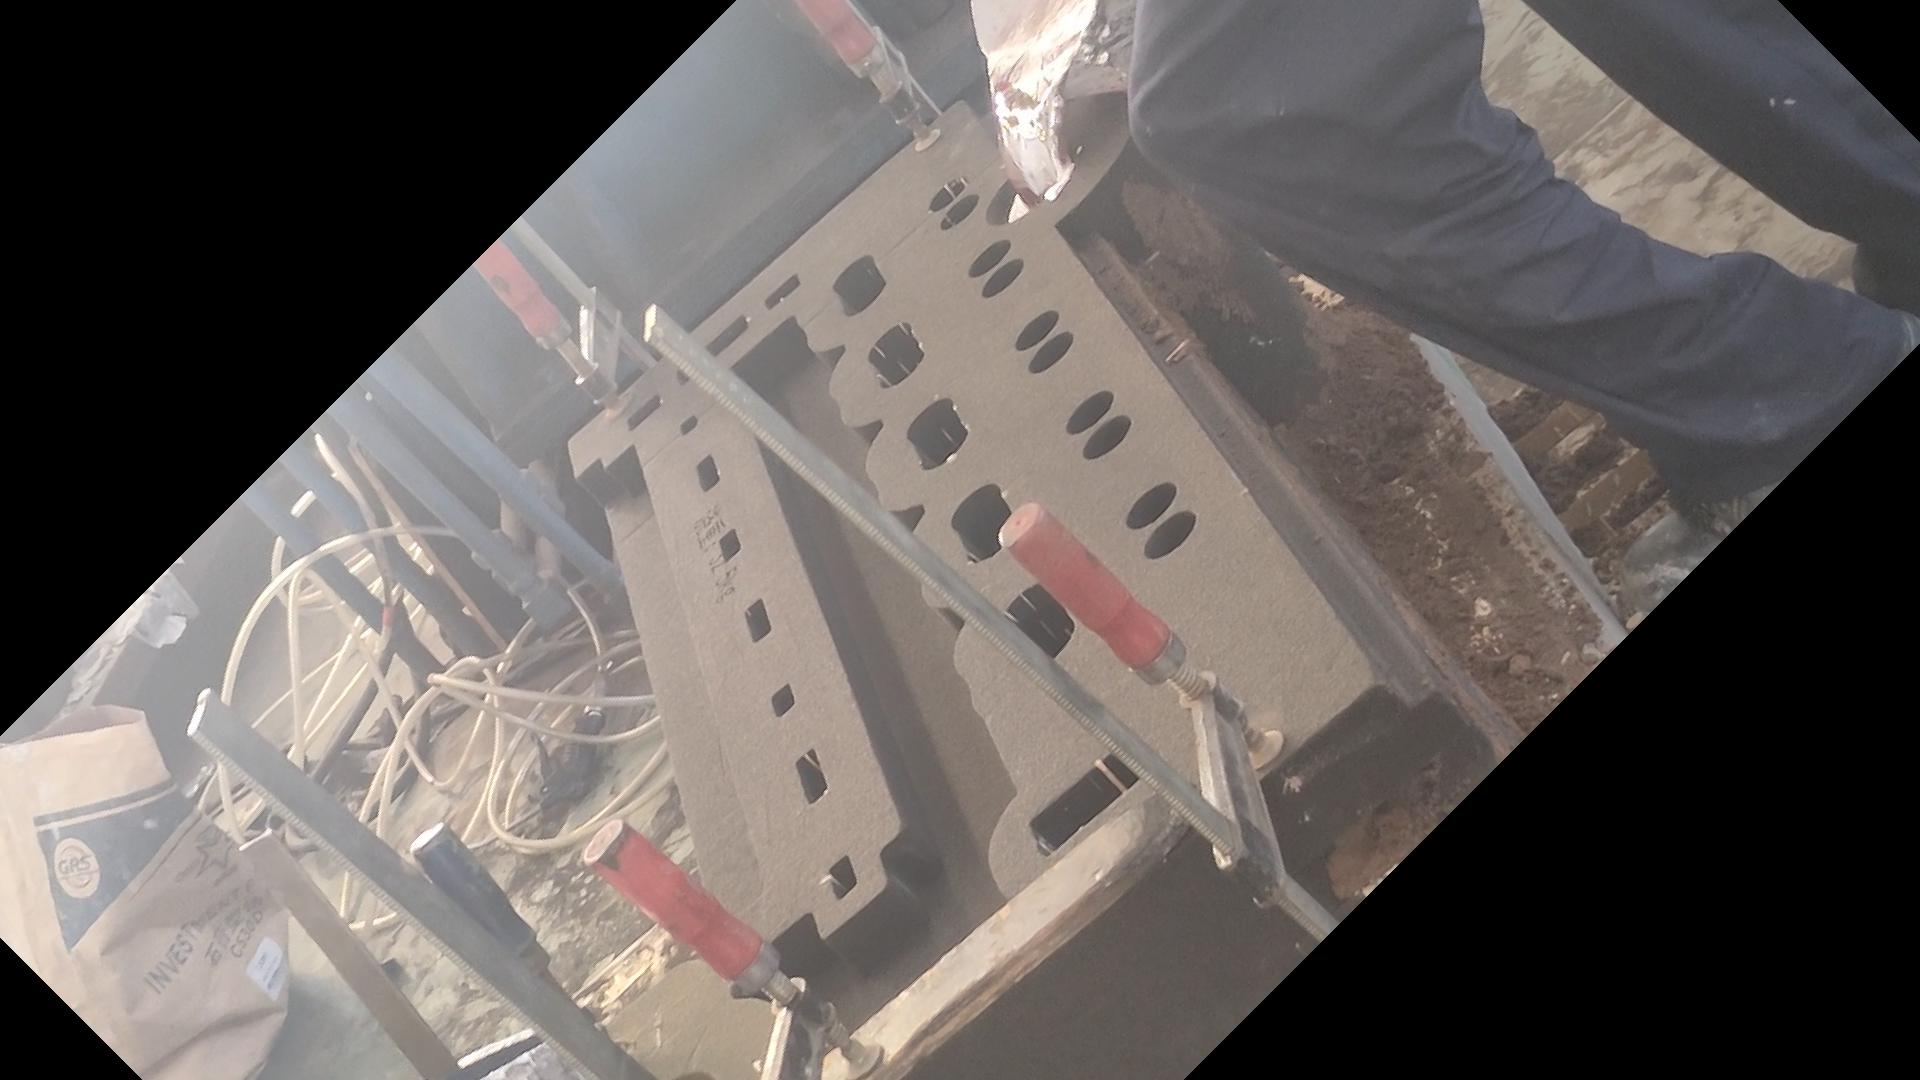pouring hole: (982, 131, 1079, 227), (661, 1071, 713, 1080)
